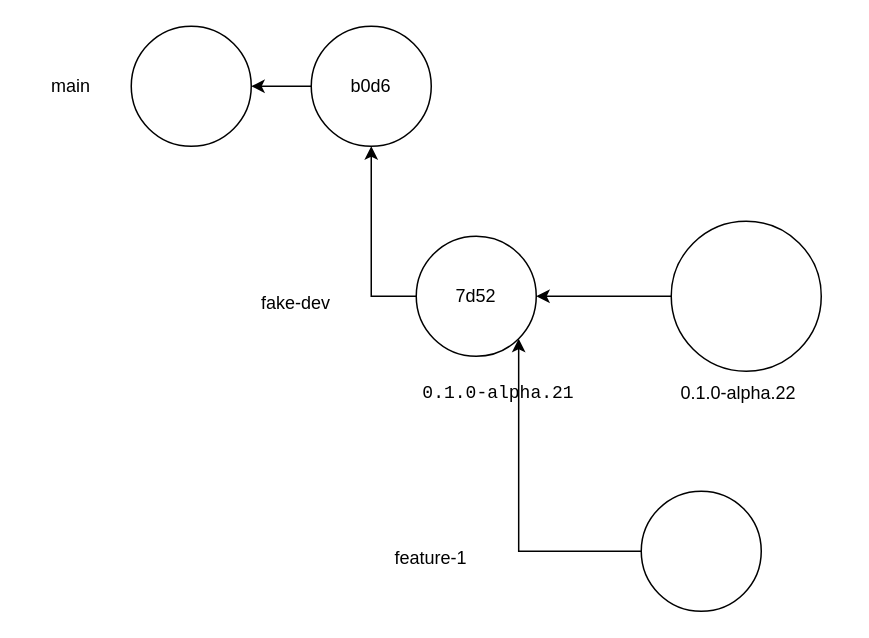
This 869x638 diagram has some shape labels left out. Each missing label, with the box of its shape:
add feature 1 ( #15 ) 8309: (670, 220, 821, 371)
f15f: (130, 25, 251, 146)
